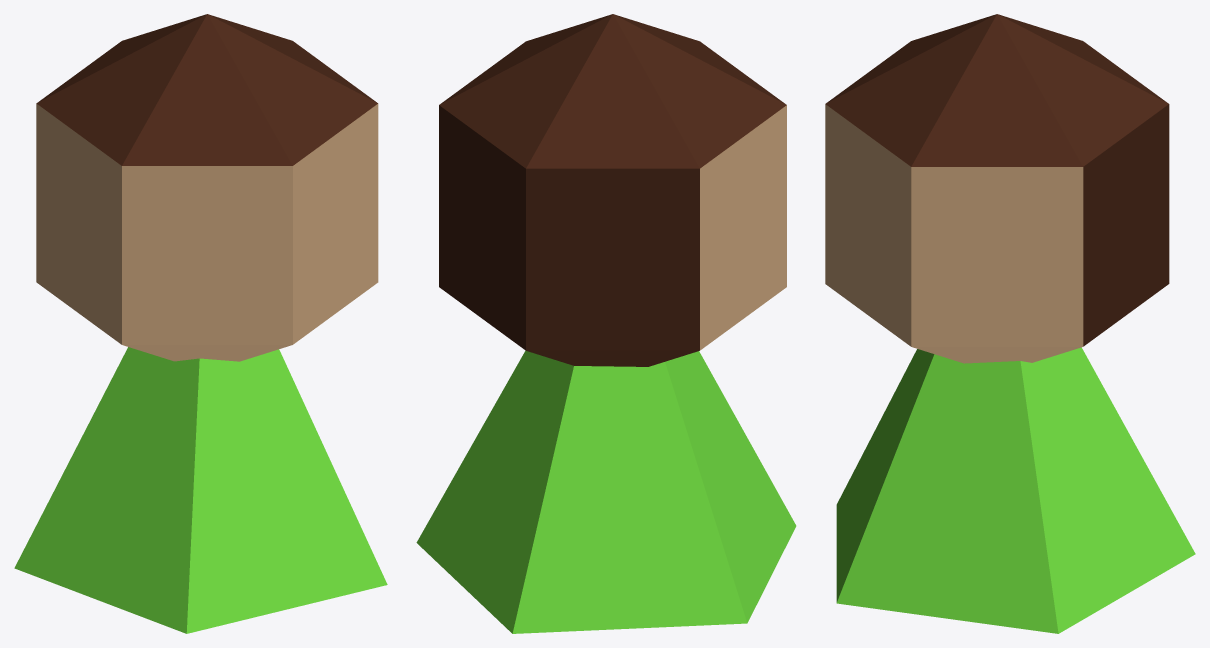
Rendered from npc.glb.
The picture shows the model from 3 angles, left to right: view 1: azimuth 30°, elevation 25°; view 2: azimuth 150°, elevation 25°; view 3: azimuth 270°, elevation 25°; orthographic projection.
Visible parts, largest first — view 1: Cone; view 2: Cone; view 3: Cone.
Part boxes in pixels (x1,y1,x2,y2): Cone: (14,14,387,633); Cone: (416,14,796,633); Cone: (825,14,1195,633).
Bounding box in the file's own units: 1.9 × 3 × 1.87.
